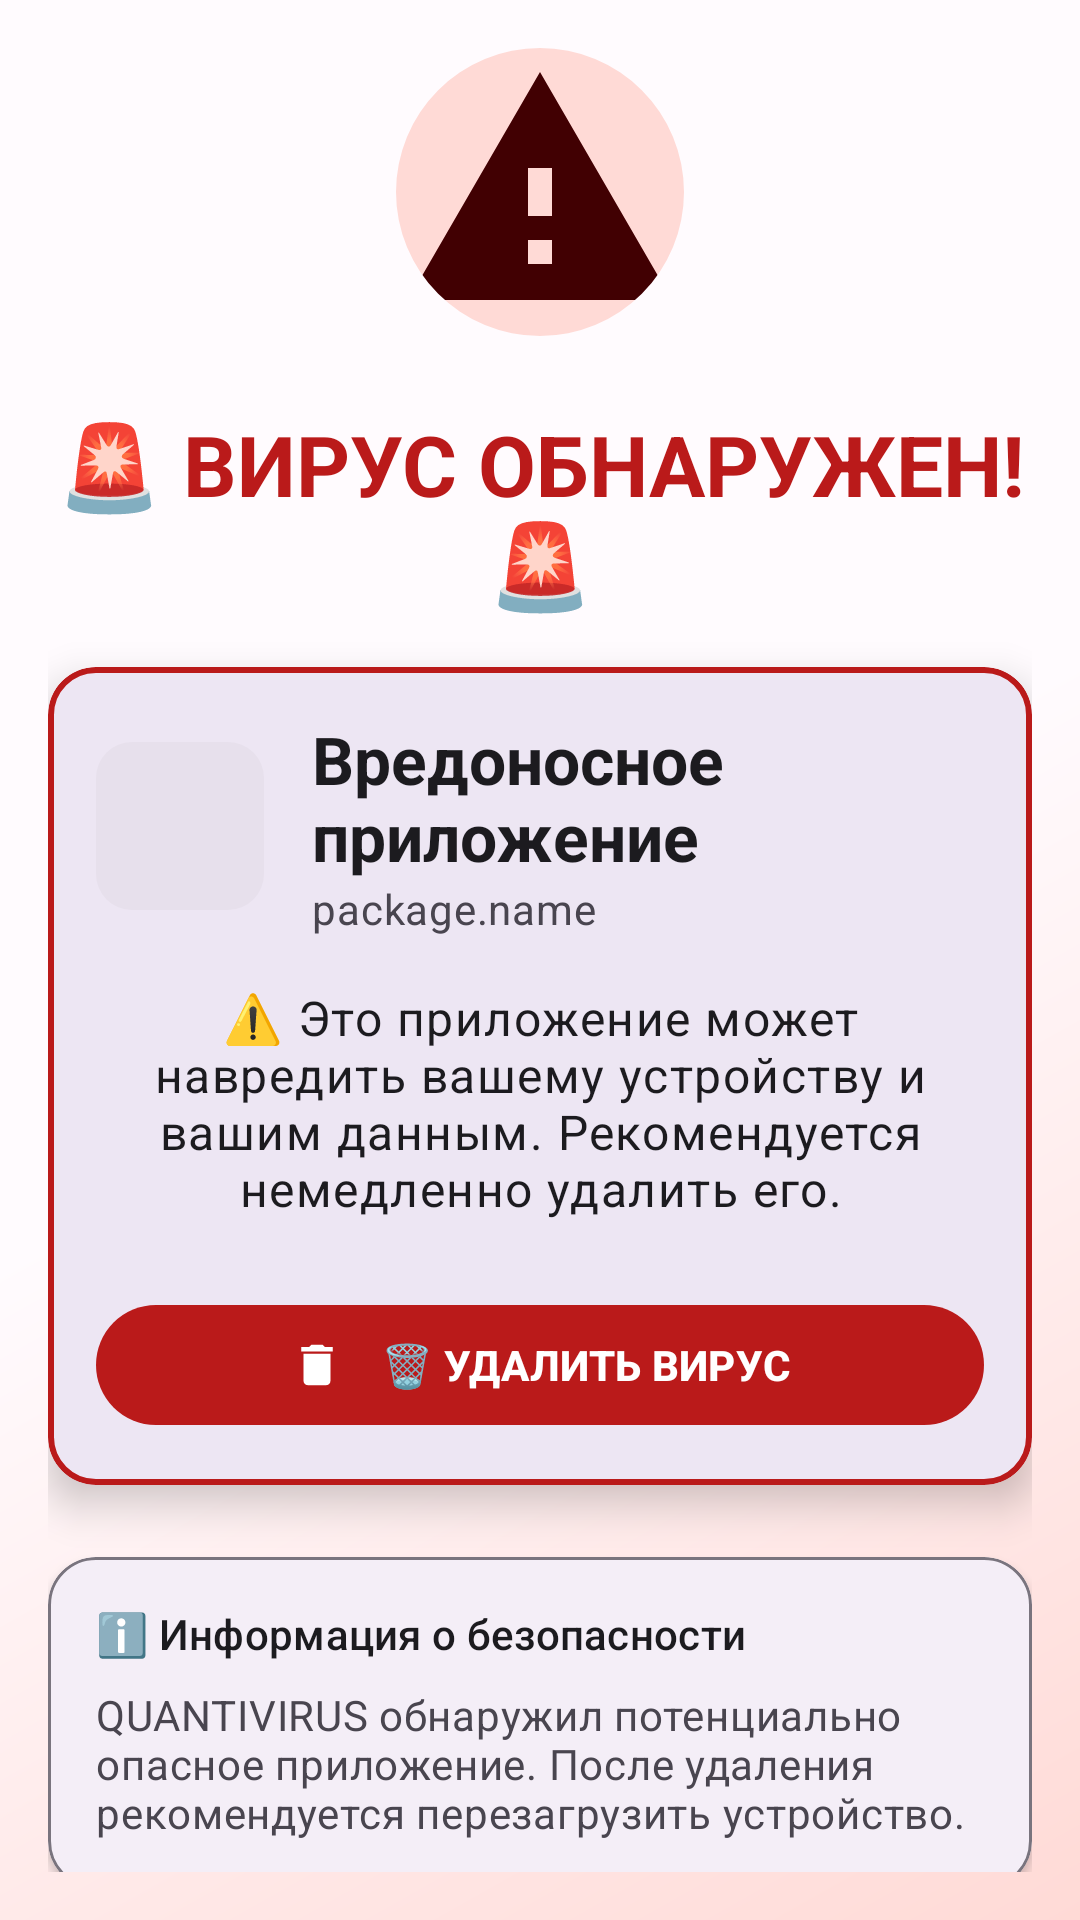

Locate icon controls on the screen. Image size 1080 × 1920, boxes as (x1, y1, x2, y2).
warning: (396, 48, 684, 336)
